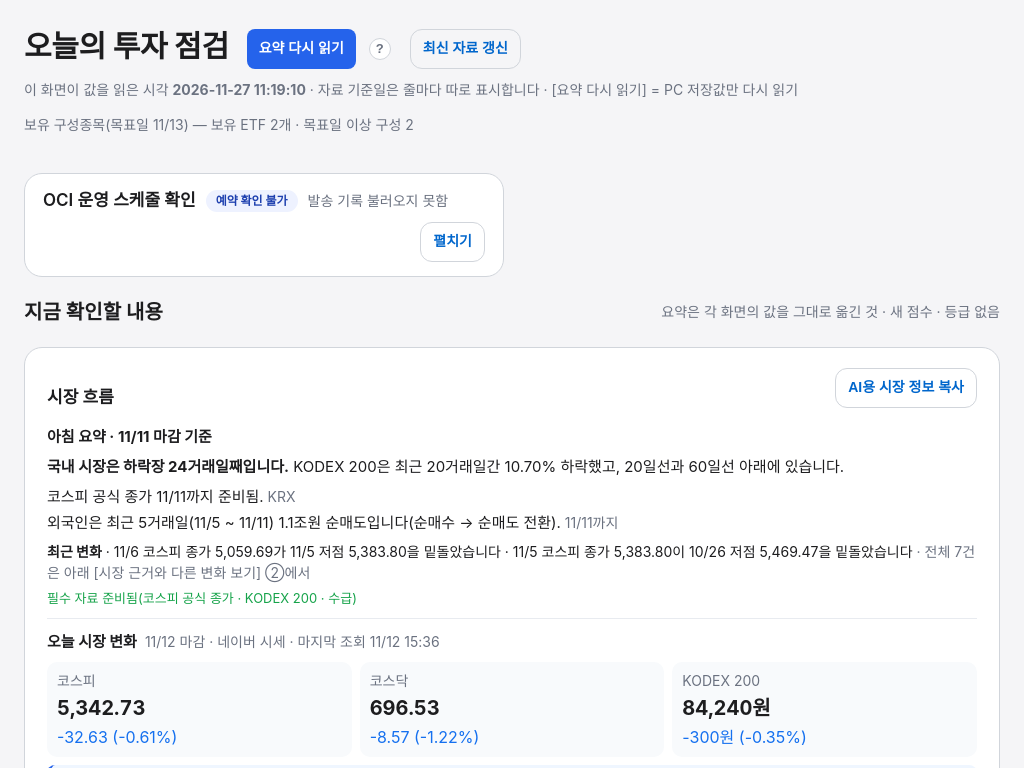
Test case: [AI용 시장 정보 복사](설계 §6 · 판정 §4 · POC6-32 V2 PLAN §4-1) › 복사가 실패하면 성공처럼 보이지 않고 글 상자(서버 글)를 펼친다
Click the button "AI용 시장 정보 복사" at (906, 388), box [835,368,977,408]
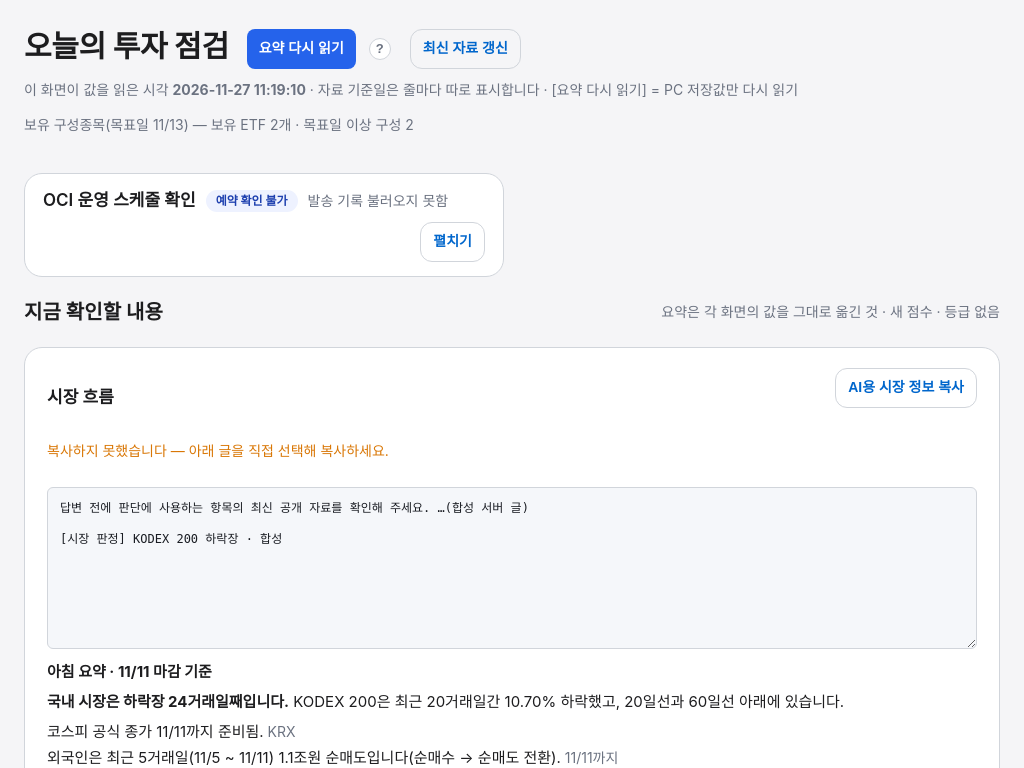
Expected: the text with test id "tc-copy-message" reads "복사하지 못했습니다 — 아래 글을 직접 선택해 복사하세요.", [47,442,389,459]
